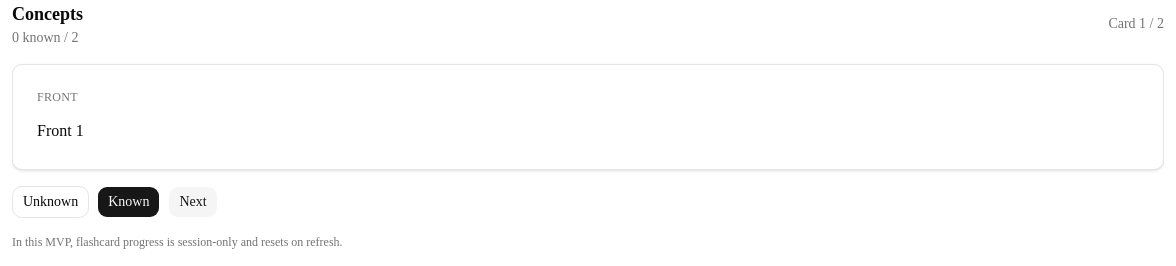
Scenario: FlashcardStudy › marks a card as known and updates counts
Check: the text "0 known / 2" is shown, box [12, 28, 83, 48]
Click the button "Known": (129, 202) [97, 186, 160, 218]
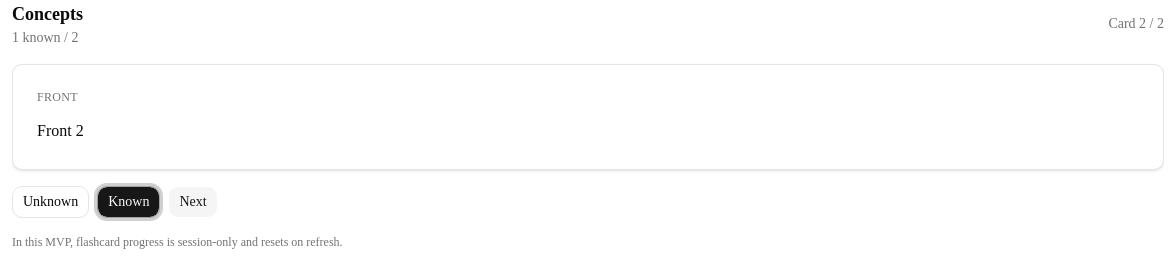
Check: the text "1 known / 2" is shown, box [12, 28, 83, 48]
